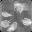people: (14, 1, 24, 14), (9, 22, 18, 31), (22, 18, 32, 26), (1, 20, 11, 28), (2, 11, 12, 18)
